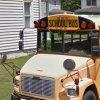Bus: (17, 11, 100, 100)
